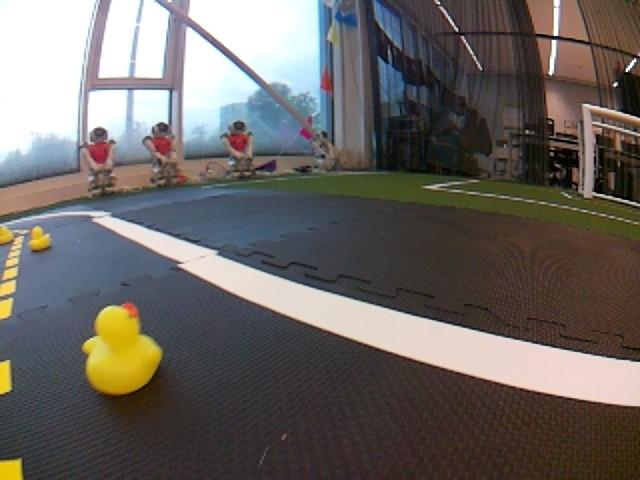Duckies: (82, 304, 164, 394), (29, 227, 51, 249), (1, 225, 14, 245)
